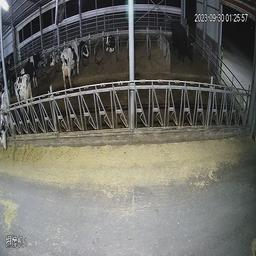cow: (59, 32, 92, 93), (12, 73, 45, 133), (168, 17, 196, 71), (18, 51, 44, 91), (0, 84, 13, 158), (101, 26, 120, 60), (50, 45, 59, 66)
